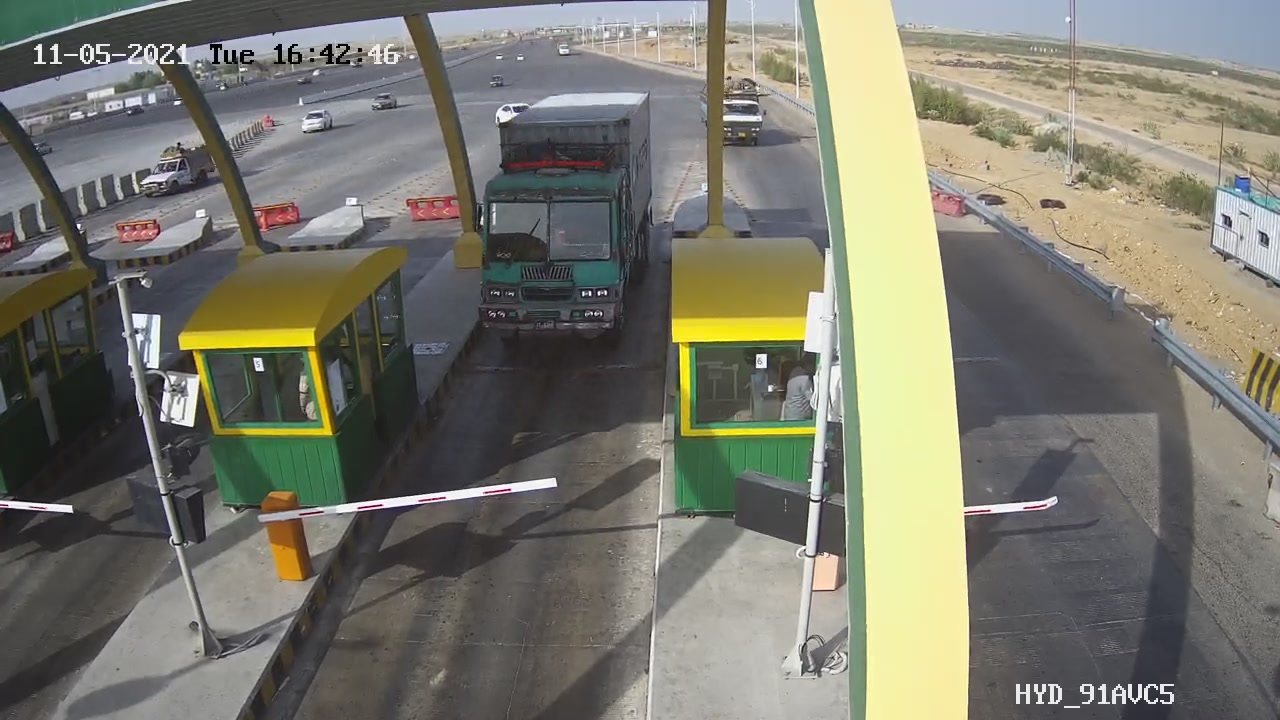F6: (458, 73, 685, 363)
